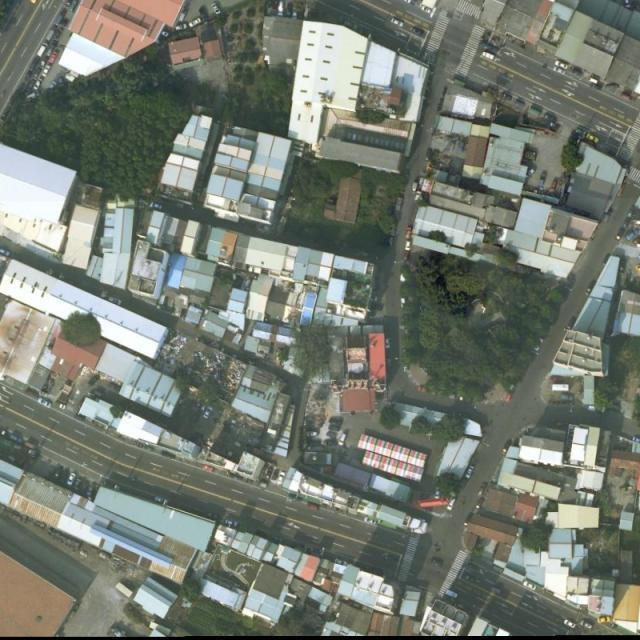vehicle: (625, 227, 640, 243), (522, 579, 538, 592), (569, 66, 586, 78), (484, 42, 499, 55), (564, 317, 577, 332), (50, 468, 62, 484), (46, 26, 58, 42), (513, 98, 529, 110), (614, 226, 626, 242), (390, 16, 406, 28), (38, 396, 52, 409), (37, 44, 50, 58), (555, 58, 570, 70), (464, 465, 476, 480), (46, 51, 58, 65), (188, 16, 202, 28), (431, 556, 445, 568), (199, 9, 210, 24), (33, 77, 44, 92), (225, 519, 241, 529), (552, 65, 568, 75), (539, 170, 549, 186), (586, 133, 599, 145), (446, 498, 458, 511), (202, 405, 214, 418), (86, 374, 99, 386), (67, 473, 78, 487), (580, 618, 594, 629), (201, 462, 215, 473), (86, 485, 96, 500), (58, 471, 68, 486), (9, 434, 24, 444), (443, 589, 459, 598), (211, 2, 222, 15), (499, 91, 512, 102), (563, 619, 576, 630), (501, 442, 512, 455), (338, 433, 349, 446), (108, 296, 122, 306), (550, 179, 560, 193), (306, 501, 320, 511), (478, 482, 488, 496), (424, 148, 434, 162), (411, 26, 425, 36), (330, 416, 344, 426), (277, 470, 287, 484), (265, 467, 274, 482), (68, 1, 79, 13), (545, 112, 557, 123), (23, 69, 33, 82), (32, 67, 42, 80), (26, 78, 36, 91), (42, 65, 52, 78), (530, 106, 543, 116), (620, 92, 633, 102), (420, 4, 433, 14), (270, 469, 280, 482), (462, 514, 471, 528), (1, 246, 11, 258), (29, 58, 39, 70), (626, 206, 636, 218), (482, 50, 494, 60), (276, 2, 284, 17), (474, 497, 484, 509), (154, 496, 166, 506), (25, 442, 38, 451), (329, 424, 342, 433), (175, 23, 189, 31), (406, 226, 414, 240), (364, 518, 378, 526), (334, 558, 348, 566), (40, 54, 49, 66), (286, 3, 293, 18), (598, 615, 611, 623), (63, 1, 74, 10), (560, 393, 574, 400), (74, 479, 82, 491), (404, 1, 420, 7), (434, 486, 441, 499), (54, 16, 63, 26), (526, 168, 535, 178), (622, 217, 630, 228), (306, 431, 318, 438), (150, 202, 162, 209), (325, 440, 338, 446), (326, 432, 337, 438), (406, 240, 411, 251), (634, 436, 640, 444), (623, 1, 631, 6), (29, 1, 37, 4)
